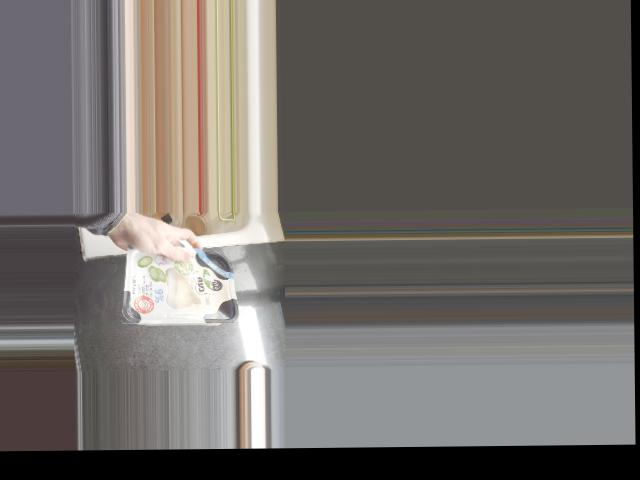cheese: (122, 238, 236, 324)
